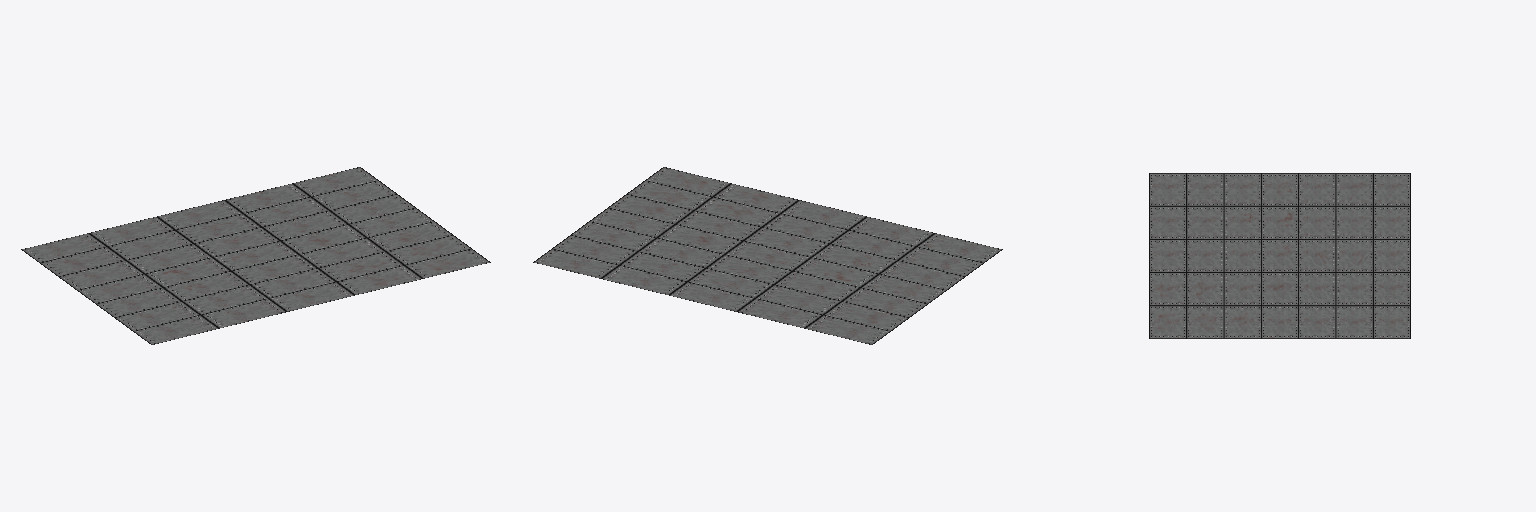
3 views of the same model, side by side, from view 1: azimuth 30°, elevation 25°; view 2: azimuth 150°, elevation 25°; view 3: azimuth 270°, elevation 25° (orthographic).
Visible parts, largest first — view 1: グリッド; view 2: グリッド; view 3: グリッド.
Boxes of the visible parts, <box> form: グリッド: <box>21,167,490,344</box>; グリッド: <box>533,167,1002,344</box>; グリッド: <box>1149,173,1410,338</box>.
Size of the model in its own units: 168 by 0 by 112.
Materials: 1 (1 with a texture image).